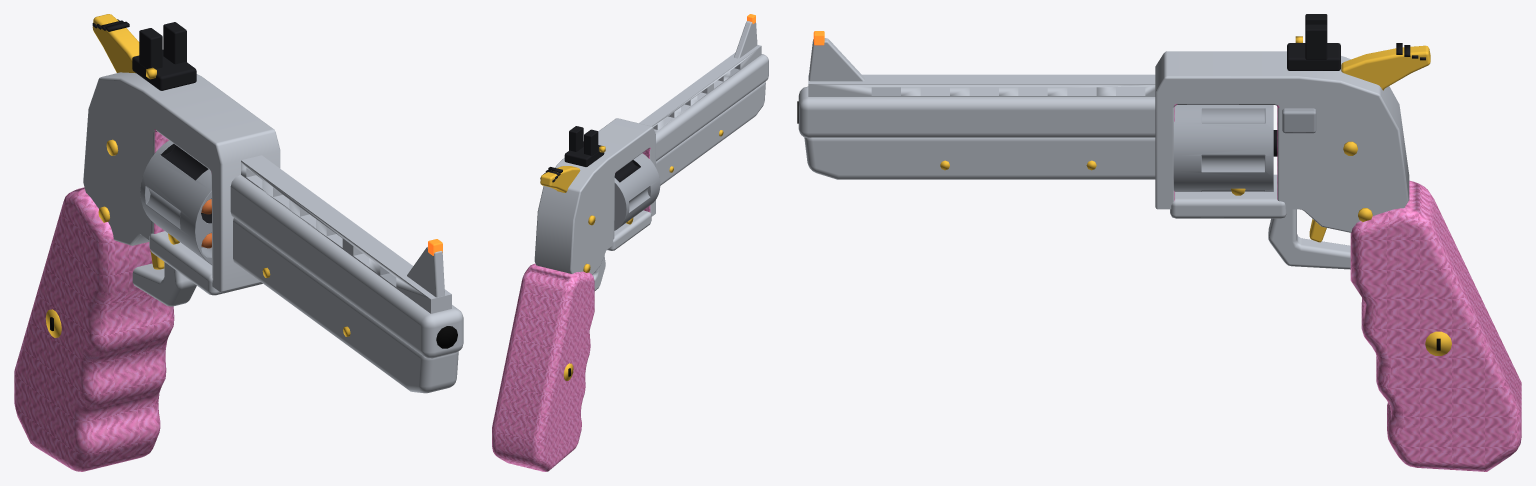
The model's file is w_revolver.glb.
3 renders of one model, left to right at view 1: azimuth 30°, elevation 25°; view 2: azimuth 150°, elevation 25°; view 3: azimuth 270°, elevation 25°, orthographic. The views are drawn at different scales.
Visible parts, largest first — view 1: rv_body_wzA__rv_pearl__pf28dcc, rv_body_wzB__rv_chrome__sc4cad4, rv_body_wzA__rv_chrome__sc4cad4, cylinder_wzB__rv_satin__sa8aeb8, rv_body_wzB__rv_dark__p18191d, hammer_wzN__rv_gold__sffc83a, rv_body_wzN__rv_gold__sffc83a, cylinder_wzB__rv_dark__p18191d; view 2: rv_body_wzA__rv_pearl__pf28dcc, rv_body_wzA__rv_chrome__sc4cad4, rv_body_wzB__rv_chrome__sc4cad4, cylinder_wzB__rv_satin__sa8aeb8, rv_body_wzB__rv_dark__p18191d, hammer_wzN__rv_gold__sffc83a, rv_body_wzN__rv_gold__sffc83a; view 3: rv_body_wzB__rv_chrome__sc4cad4, rv_body_wzA__rv_pearl__pf28dcc, rv_body_wzA__rv_chrome__sc4cad4, cylinder_wzB__rv_satin__sa8aeb8, hammer_wzN__rv_gold__sffc83a, rv_body_wzB__rv_dark__p18191d, rv_body_wzN__rv_gold__sffc83a, rv_body_wzB__rv_satin__sa8aeb8.
Boxes of the visible parts, x1,y1,x2,y2 form: rv_body_wzA__rv_pearl__pf28dcc: [14, 129, 211, 471]; rv_body_wzB__rv_chrome__sc4cad4: [230, 155, 463, 393]; rv_body_wzA__rv_chrome__sc4cad4: [83, 72, 280, 306]; cylinder_wzB__rv_satin__sa8aeb8: [140, 140, 211, 264]; rv_body_wzB__rv_dark__p18191d: [132, 22, 196, 90]; hammer_wzN__rv_gold__sffc83a: [92, 14, 139, 73]; rv_body_wzN__rv_gold__sffc83a: [45, 67, 350, 337]; cylinder_wzB__rv_dark__p18191d: [160, 143, 211, 223]; rv_body_wzA__rv_pearl__pf28dcc: [492, 147, 650, 471]; rv_body_wzA__rv_chrome__sc4cad4: [534, 118, 655, 290]; rv_body_wzB__rv_chrome__sc4cad4: [639, 21, 768, 185]; cylinder_wzB__rv_satin__sa8aeb8: [614, 153, 660, 230]; rv_body_wzB__rv_dark__p18191d: [564, 126, 604, 166]; hammer_wzN__rv_gold__sffc83a: [540, 166, 580, 192]; rv_body_wzN__rv_gold__sffc83a: [563, 130, 723, 380]; rv_body_wzB__rv_chrome__sc4cad4: [798, 38, 1155, 179]; rv_body_wzA__rv_pearl__pf28dcc: [1174, 104, 1521, 471]; rv_body_wzA__rv_chrome__sc4cad4: [1155, 51, 1409, 269]; cylinder_wzB__rv_satin__sa8aeb8: [1173, 105, 1273, 191]; hammer_wzN__rv_gold__sffc83a: [1341, 45, 1430, 90]; rv_body_wzB__rv_dark__p18191d: [1287, 14, 1340, 70]; rv_body_wzN__rv_gold__sffc83a: [940, 36, 1451, 355]; rv_body_wzB__rv_satin__sa8aeb8: [871, 87, 1316, 133].
Bounding box in the file's own units: 0.06 × 0.2955 × 0.4447.
Materials: 8 (1 with a texture image).
